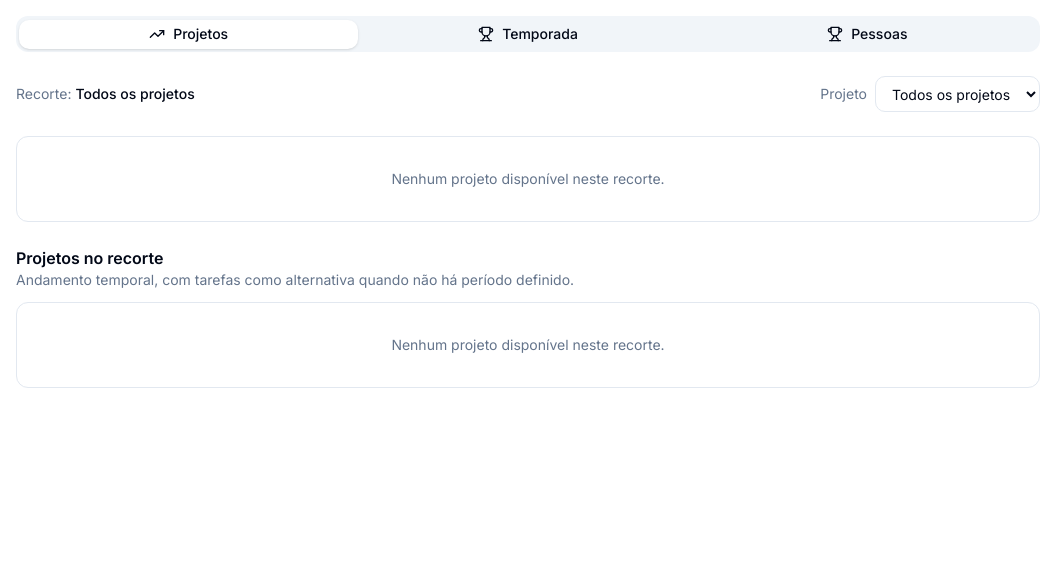
aba Temporada (plan-v20 S02, DEC-255) › abrir a temporada fechada troca o pódio para as linhas congeladas: Bruno lidera com o valor da linha
Press the mouse on the tab "Temporada" at (528, 34), box [358, 20, 698, 48]
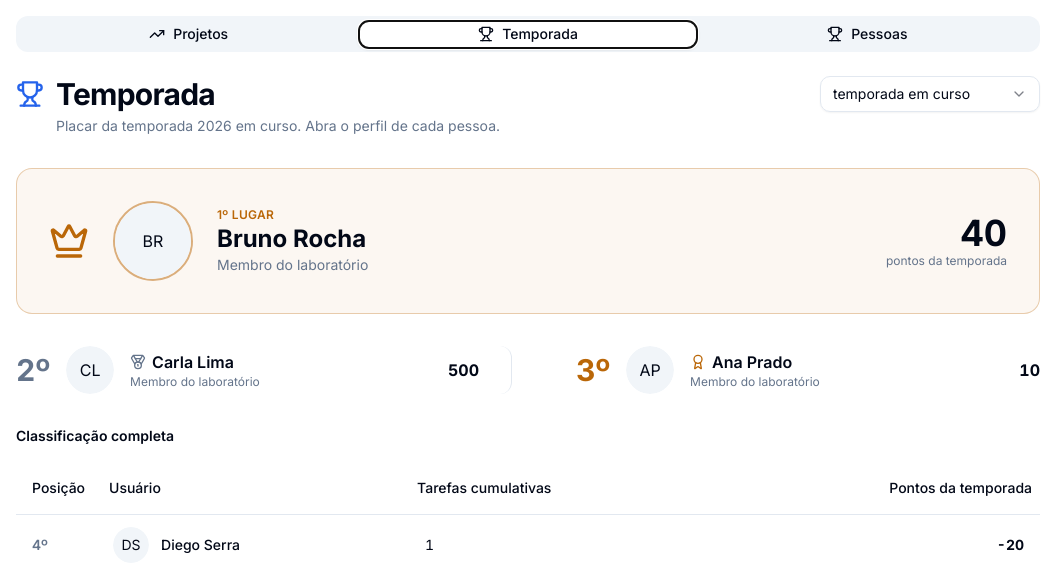
Check: the column heading "Pontos da temporada" is shown, box [716, 462, 1040, 514]
Click the dropdown named "Ano da temporada".
click(930, 94)  # box [820, 76, 1040, 112]
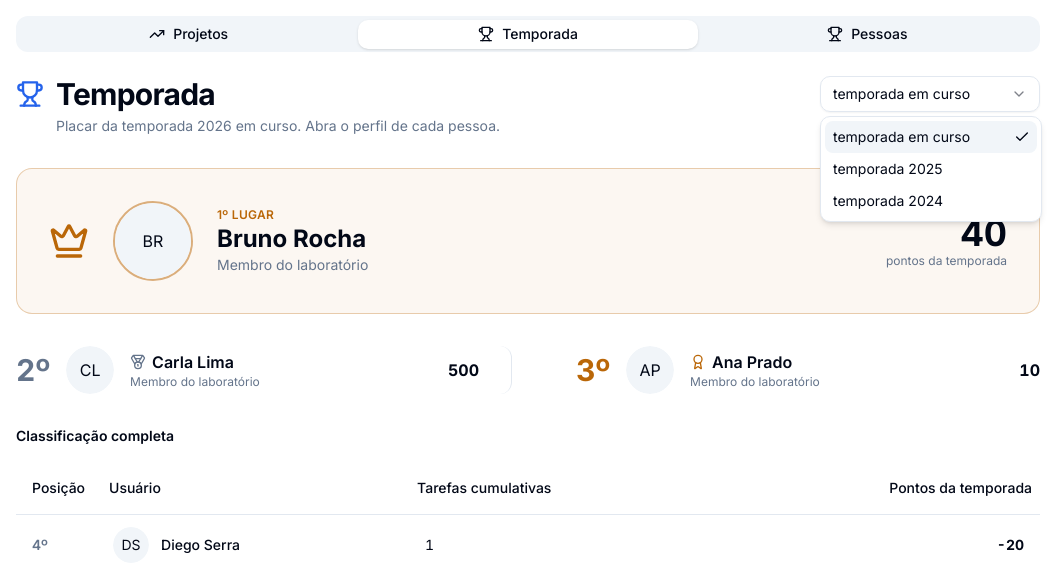
Click the option "temporada 2025".
click(888, 168)  # box [833, 160, 943, 177]
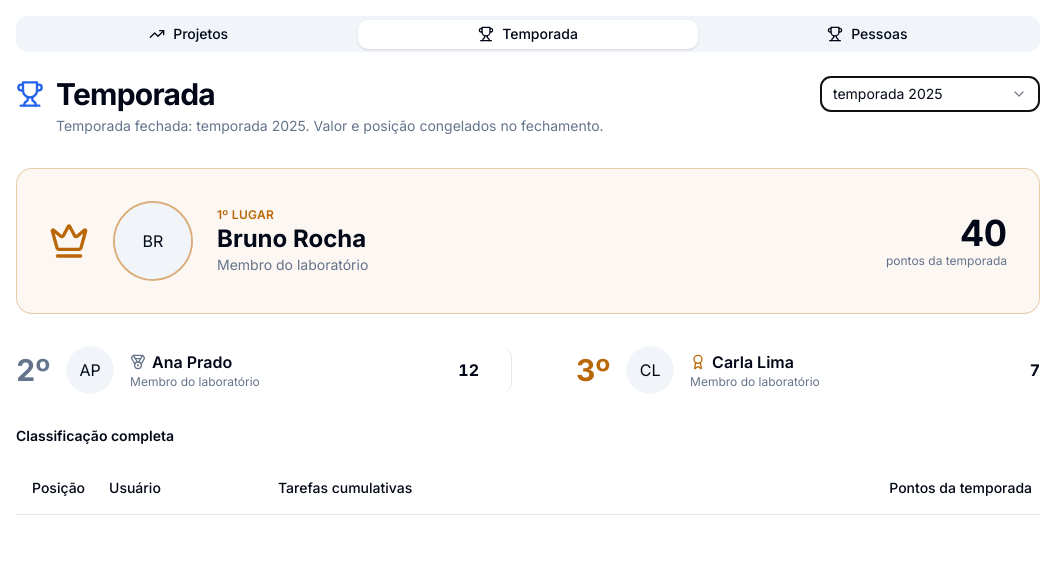
Check: the text "40" is shown, box [960, 211, 1007, 255]
Check: the text "Ana Prado" is shown, box [130, 352, 232, 372]
Check: the text "Carla Lima" is shown, box [690, 352, 794, 372]
